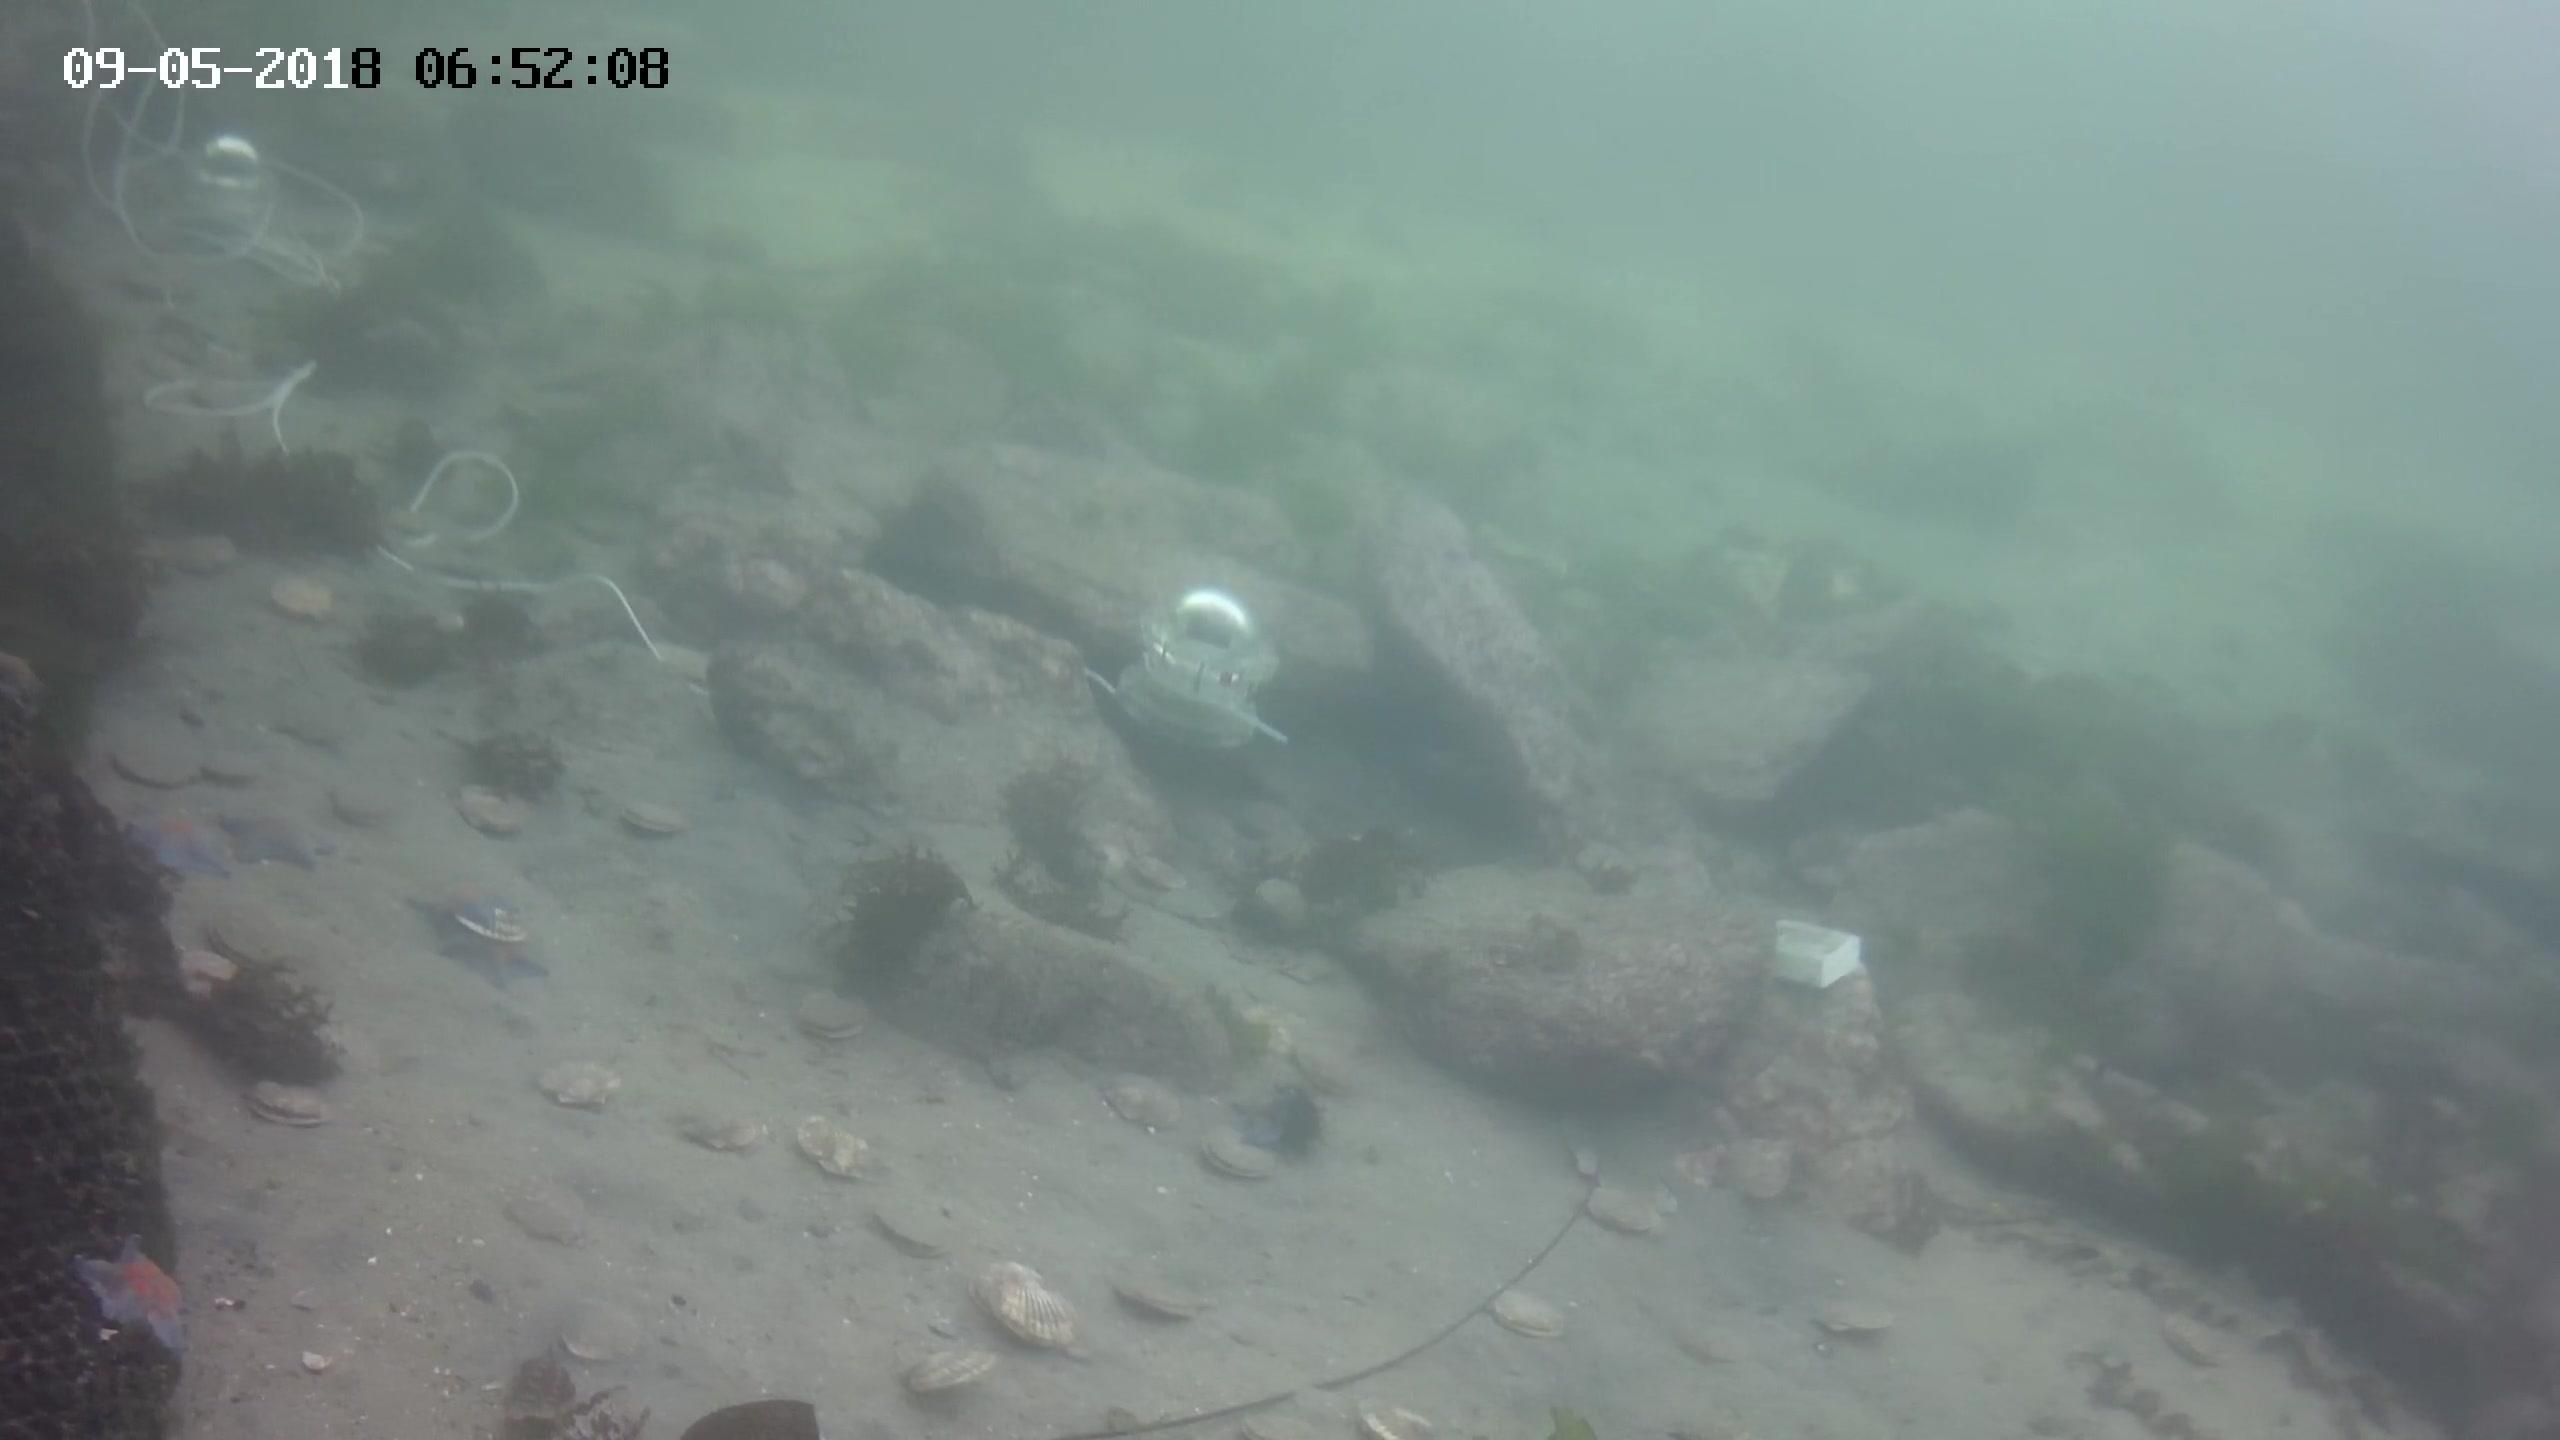scallop: (967, 1264, 1081, 1354), (900, 1342, 1002, 1415), (795, 1106, 886, 1183), (1111, 1266, 1217, 1333), (489, 1182, 594, 1247), (872, 1194, 960, 1271), (550, 1298, 656, 1361), (113, 716, 209, 784), (672, 1101, 779, 1162), (216, 907, 302, 971), (1095, 1064, 1183, 1125), (244, 1074, 338, 1132), (535, 1055, 626, 1113), (1484, 1285, 1572, 1342), (795, 986, 874, 1043), (160, 949, 239, 1006), (454, 781, 527, 837), (271, 573, 350, 624), (1347, 1396, 1438, 1440), (2166, 1308, 2236, 1361), (628, 791, 687, 844), (1206, 1136, 1271, 1183), (331, 774, 389, 823), (462, 904, 529, 944), (1259, 870, 1312, 914), (1153, 886, 1206, 928), (199, 744, 262, 775), (1124, 849, 1173, 881)
starfish: (77, 1240, 197, 1349), (125, 811, 234, 877), (223, 805, 329, 874), (1231, 1081, 1329, 1146), (447, 937, 552, 988), (415, 883, 506, 937)
